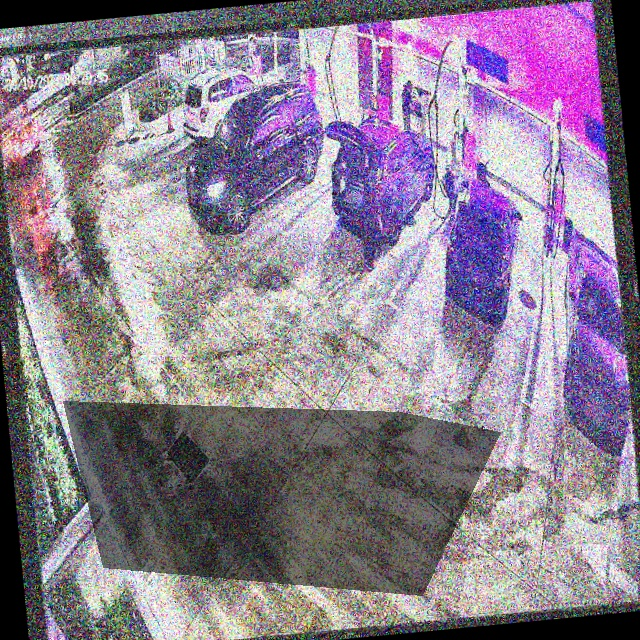Car: (178, 74, 333, 236), (323, 112, 441, 249), (438, 178, 527, 323), (178, 63, 282, 142)
